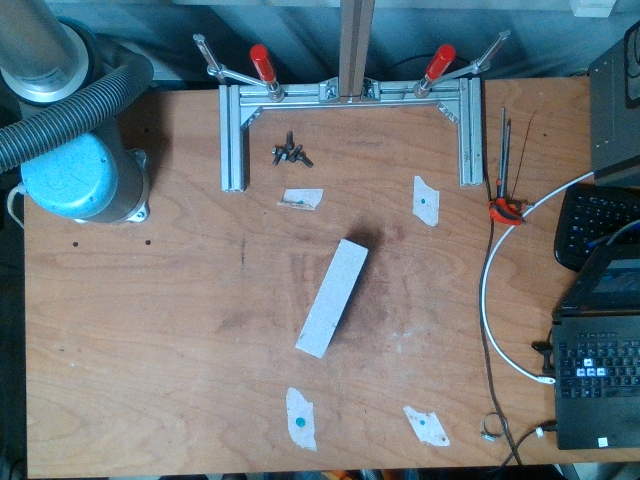brick-side: (295, 237, 368, 357)
